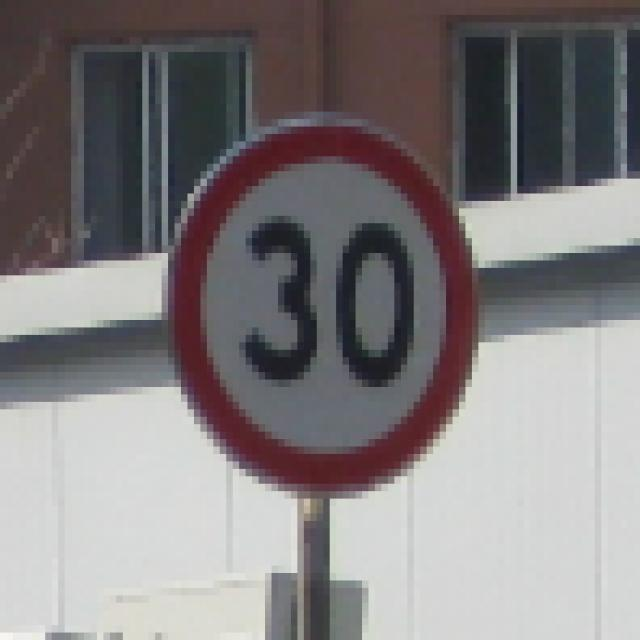Speed: (162, 128, 502, 514)
